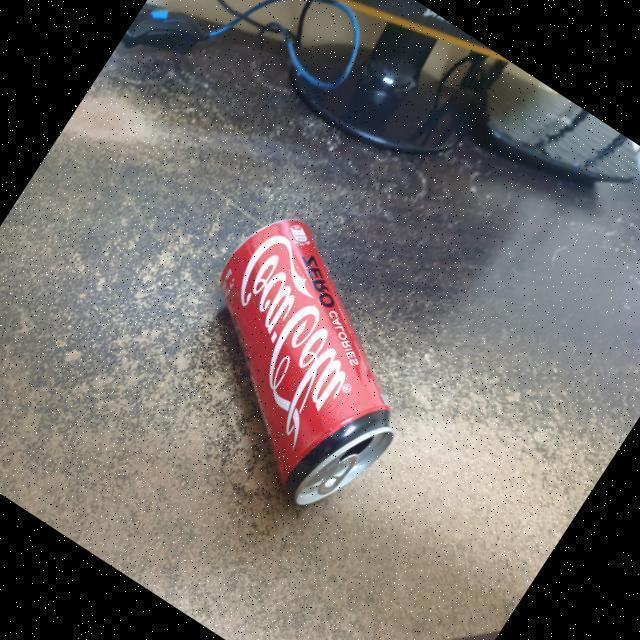Can: (219, 214, 398, 556)
